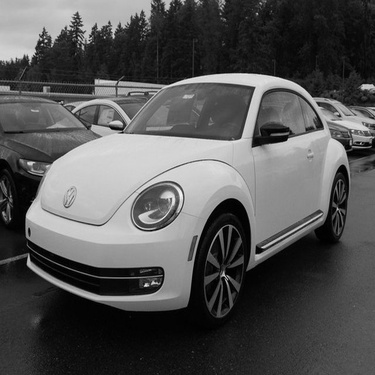car: (18, 71, 355, 322), (2, 86, 103, 233), (72, 88, 176, 148), (313, 93, 374, 150), (323, 116, 352, 158), (62, 93, 102, 114), (350, 101, 372, 125), (354, 106, 371, 121)
